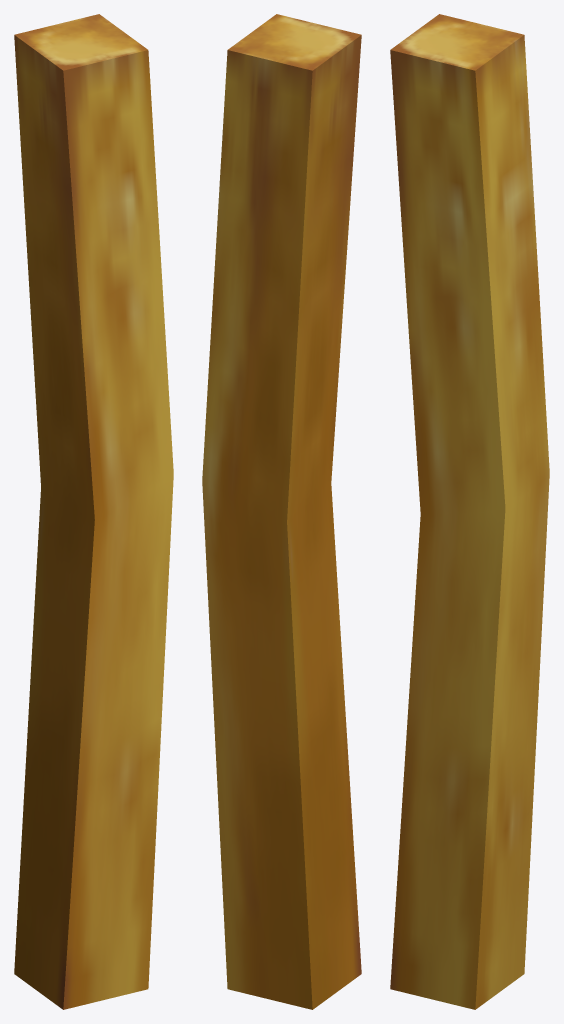
File: fries.fbx
3 views of the same model, side by side, from view 1: azimuth 30°, elevation 25°; view 2: azimuth 150°, elevation 25°; view 3: azimuth 330°, elevation 25° (orthographic).
Visible parts, largest first — view 1: fries; view 2: fries; view 3: fries.
Boxes of the visible parts, bbox=[...] form: fries: bbox=[14, 14, 173, 1009]; fries: bbox=[202, 14, 361, 1009]; fries: bbox=[390, 14, 549, 1009].
Bounding box in the file's own units: 2.2 × 17.5 × 1.76.
